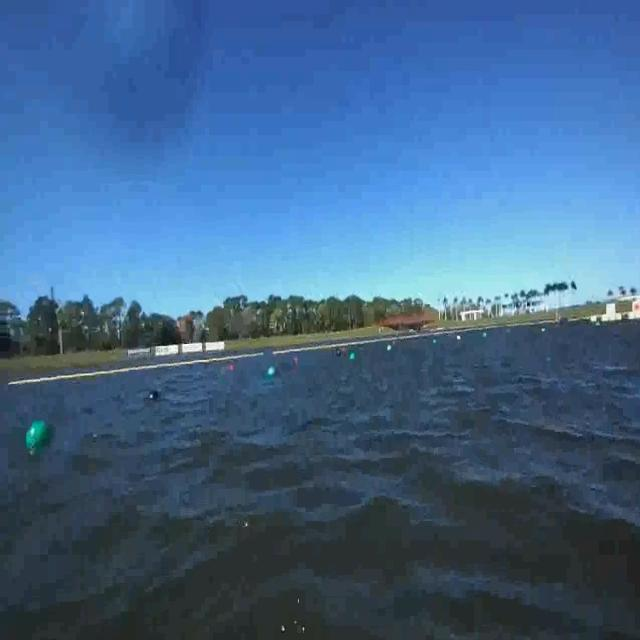black-buoy: (148, 386, 159, 406)
green-buoy: (25, 420, 51, 449), (264, 361, 281, 384), (347, 347, 359, 364)
